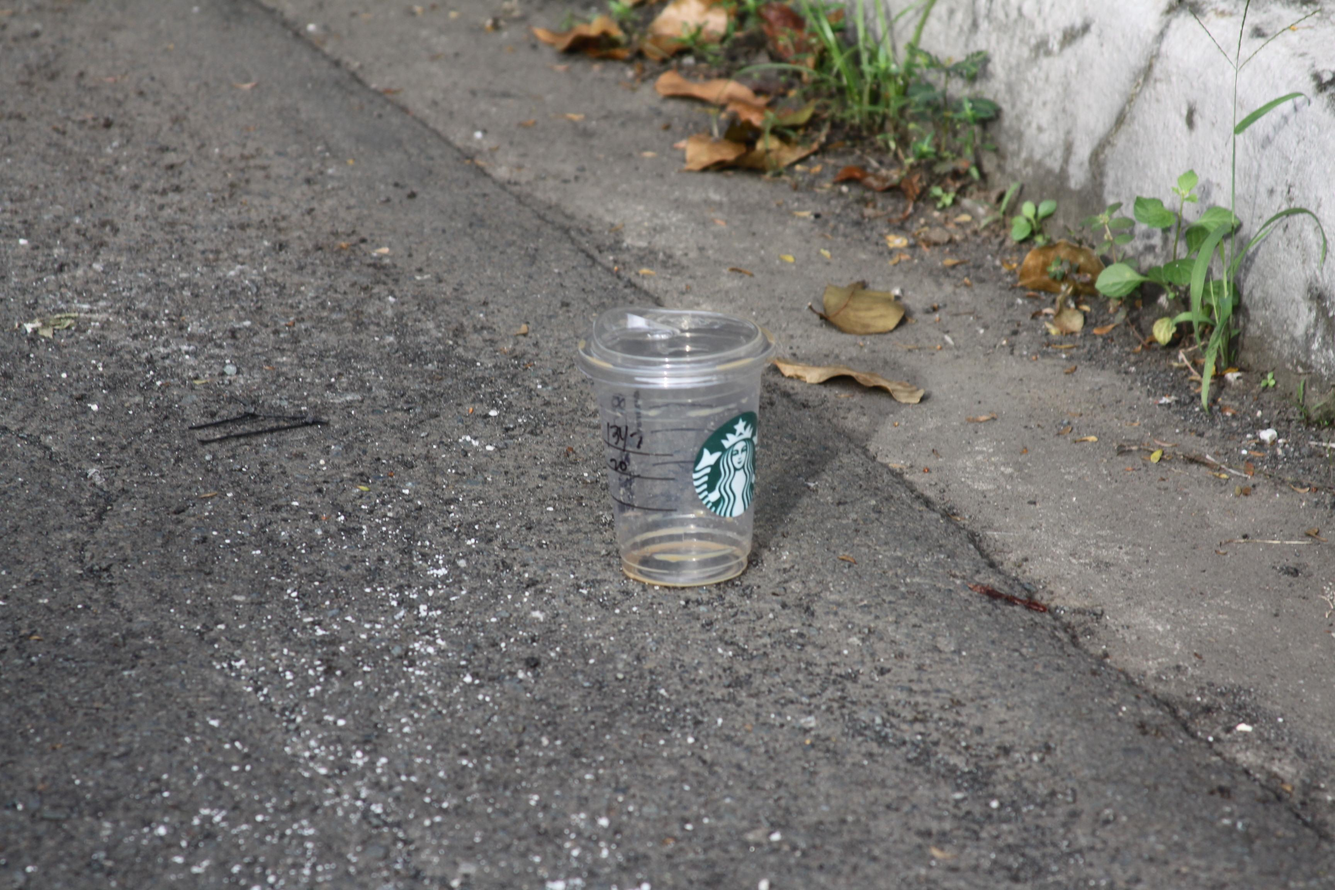Plastic: (574, 304, 780, 590)
